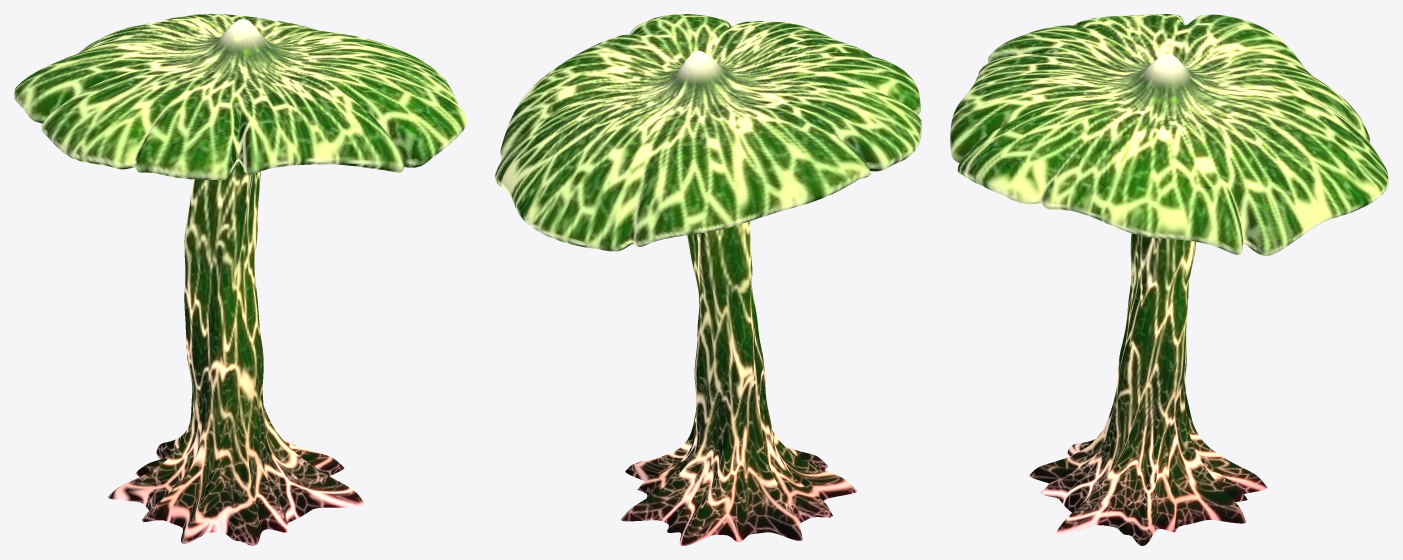
File: giant_mushroom.glb
The picture shows the model from 3 angles, left to right: view 1: azimuth 30°, elevation 25°; view 2: azimuth 150°, elevation 25°; view 3: azimuth 270°, elevation 25°; orthographic projection. The views are drawn at different scales.
Parts seen in each view (by area): view 1: CapTop, Roots, StemLower, StemUpper; view 2: CapTop, Roots, StemLower, StemUpper; view 3: CapTop, Roots, StemLower, StemUpper.
Part boxes in pixels (x1,y1,x2,y2): CapTop: (14,14,466,180); Roots: (108,401,365,545); StemLower: (184,256,265,427); StemUpper: (184,164,260,270); CapTop: (495,14,921,251); Roots: (621,418,856,545); StemLower: (694,279,770,439); StemUpper: (687,221,752,292); CapTop: (950,14,1388,255); Roots: (1029,406,1267,545); StemLower: (1110,265,1190,428); StemUpper: (1130,233,1196,280).
Size of what is drawn, in the model's own units: 87.79 by 101 by 89.43.
2 materials, 2 textured.
